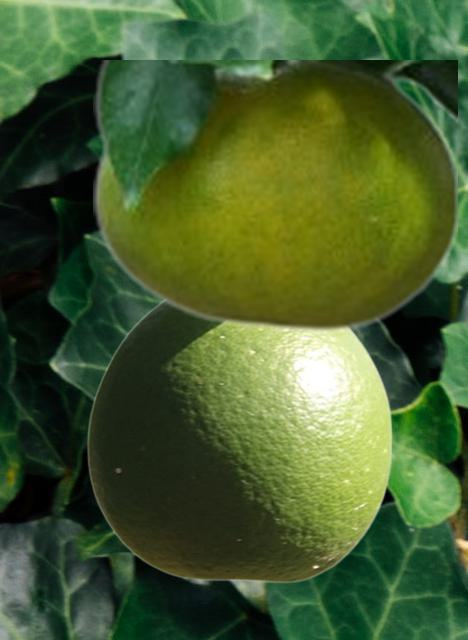dalandan: (93, 60, 456, 332), (86, 302, 392, 582)
